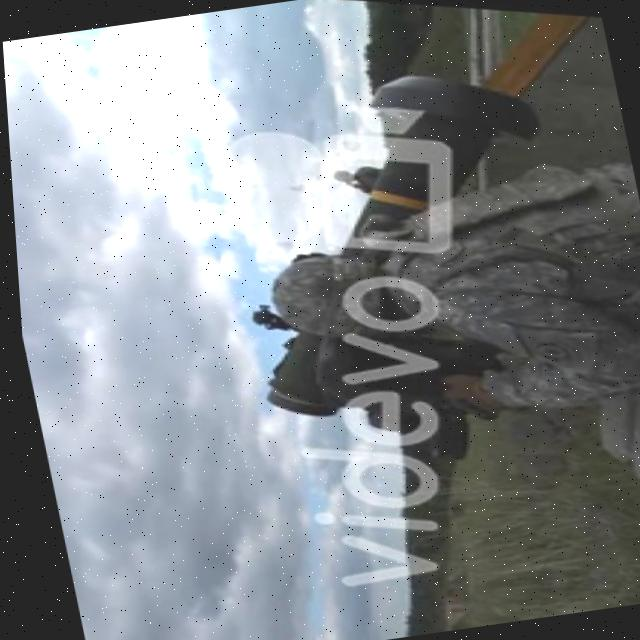rocket: (310, 41, 579, 292)
